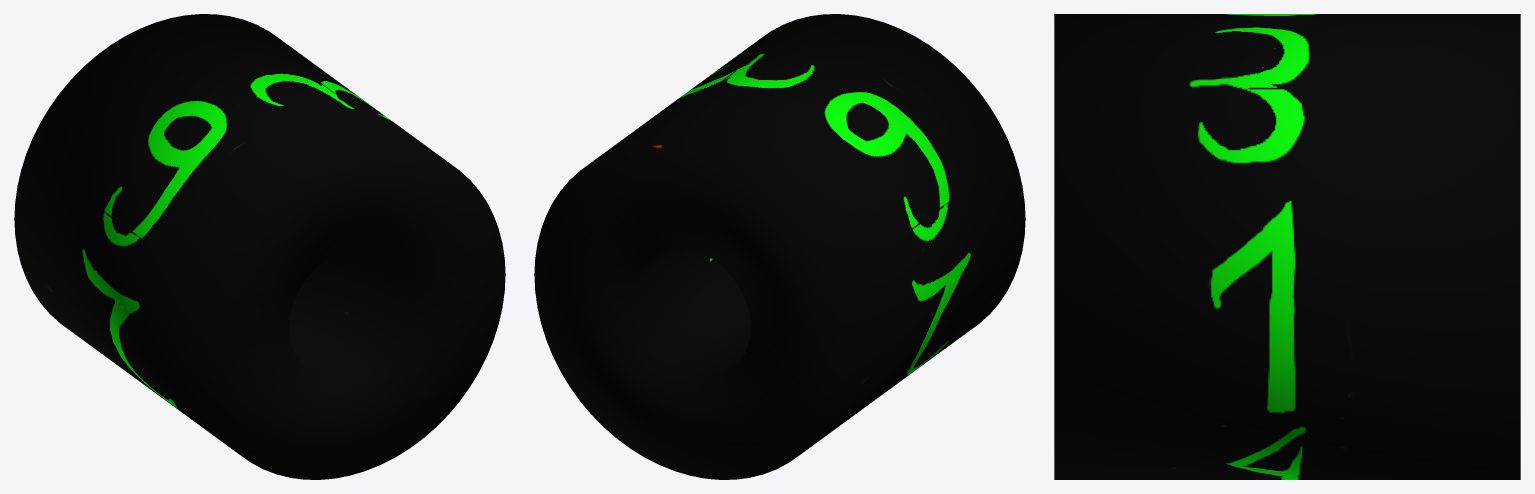
Rendered from papier_zielony.glb.
The picture shows the model from 3 angles, left to right: view 1: azimuth 30°, elevation 25°; view 2: azimuth 150°, elevation 25°; view 3: azimuth 270°, elevation 25°; orthographic projection. The views are drawn at different scales.
Visible parts, largest first — view 1: Cylinder; view 2: Cylinder; view 3: Cylinder.
Boxes of the visible parts, x1,y1,x2,y2 form: Cylinder: (14, 14, 505, 479); Cylinder: (534, 14, 1025, 479); Cylinder: (1054, 14, 1520, 479).
Size of the model in its own units: 0.5522 by 0.5522 by 0.5522.
Materials: 1 (1 with a texture image).
